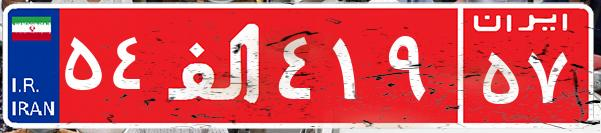1: (330, 28, 385, 110)
4: (273, 28, 330, 110), (110, 28, 158, 105)
5: (57, 26, 110, 107), (475, 38, 525, 113)
7: (525, 38, 570, 115)
9: (385, 28, 445, 110)
الف: (158, 15, 273, 115)
